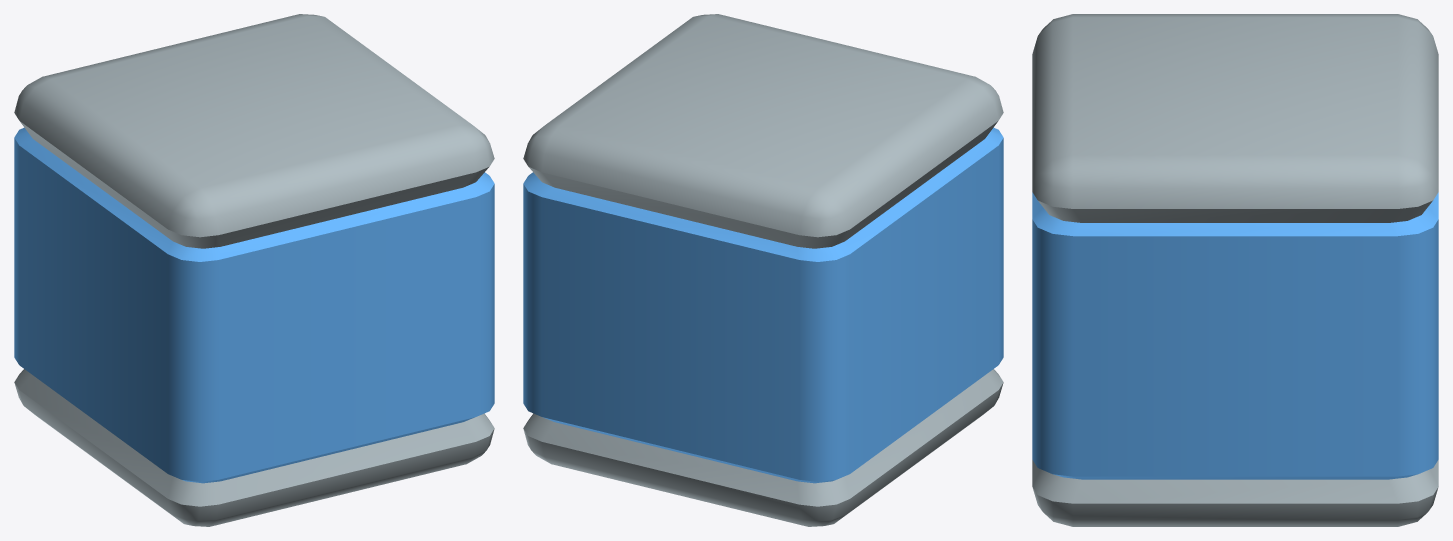
The model's file is powerupBlock_teamBlue.glb.
3 views of the same model, side by side, from view 1: azimuth 30°, elevation 25°; view 2: azimuth 150°, elevation 25°; view 3: azimuth 270°, elevation 25° (orthographic). The views are drawn at different scales.
Visible parts, largest first — view 1: powerupBlock_teamBlue; view 2: powerupBlock_teamBlue; view 3: powerupBlock_teamBlue.
Boxes of the visible parts, x1=… form: powerupBlock_teamBlue: x1=14, y1=14, x2=494, y2=526; powerupBlock_teamBlue: x1=523, y1=14, x2=1003, y2=526; powerupBlock_teamBlue: x1=1032, y1=14, x2=1438, y2=526.
Bounding box in the file's own units: 0.35 × 0.35 × 0.35.
